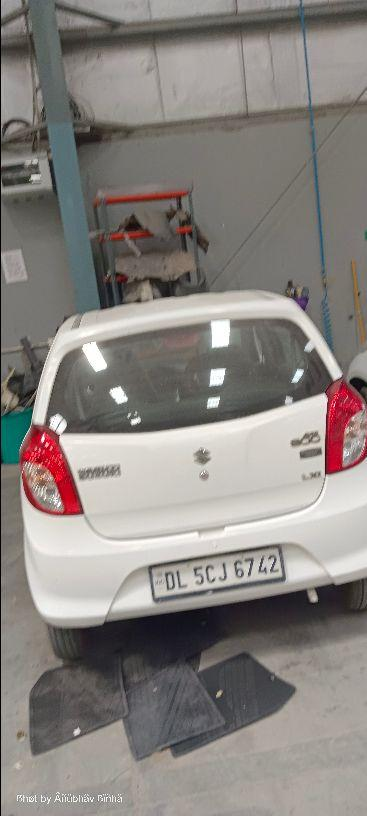license_plate: (147, 544, 286, 602)
